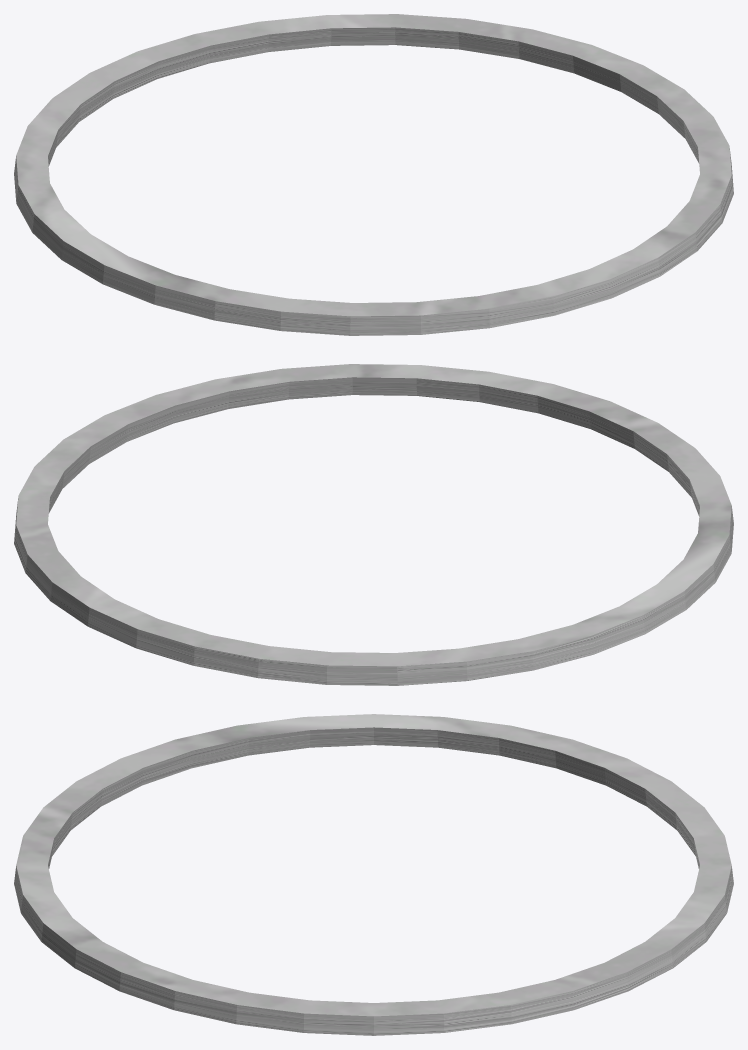
File: SJ10_depart.fbx
3 renders of one model, top to bottom at view 1: azimuth 30°, elevation 25°; view 2: azimuth 150°, elevation 25°; view 3: azimuth 270°, elevation 25°, orthographic.
Visible parts, largest first — view 1: 柱体.001; view 2: 柱体.001; view 3: 柱体.001.
Boxes of the visible parts, bbox=[...] form: 柱体.001: bbox=[14, 14, 733, 335]; 柱体.001: bbox=[14, 364, 733, 685]; 柱体.001: bbox=[14, 714, 733, 1035].
Bounding box in the file's own units: 1.76 × 0.05 × 1.76.
